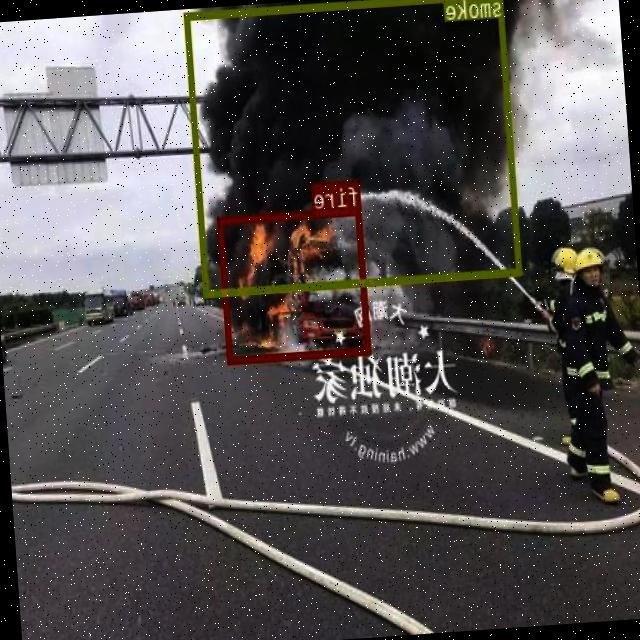fire: (218, 206, 372, 362)
smoke: (185, 0, 522, 295)
